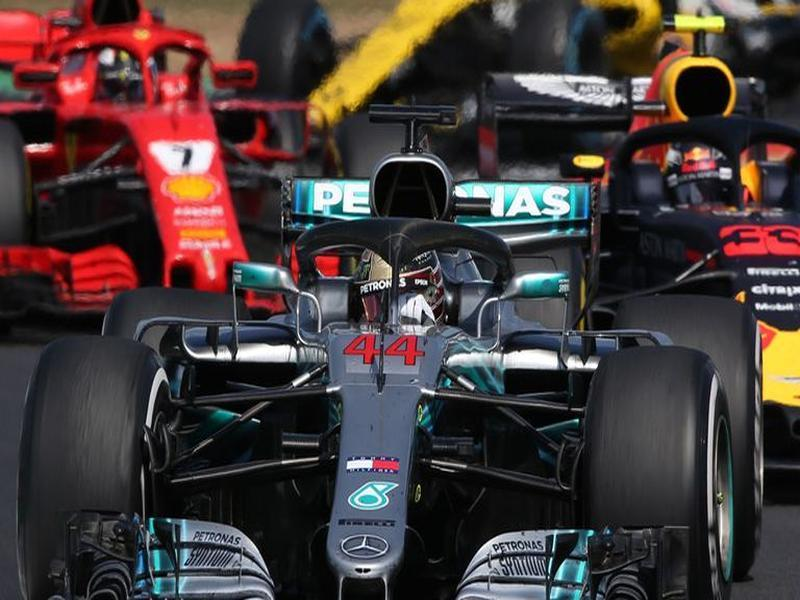f1: (36, 153, 766, 600), (1, 3, 348, 350), (473, 39, 800, 346)
